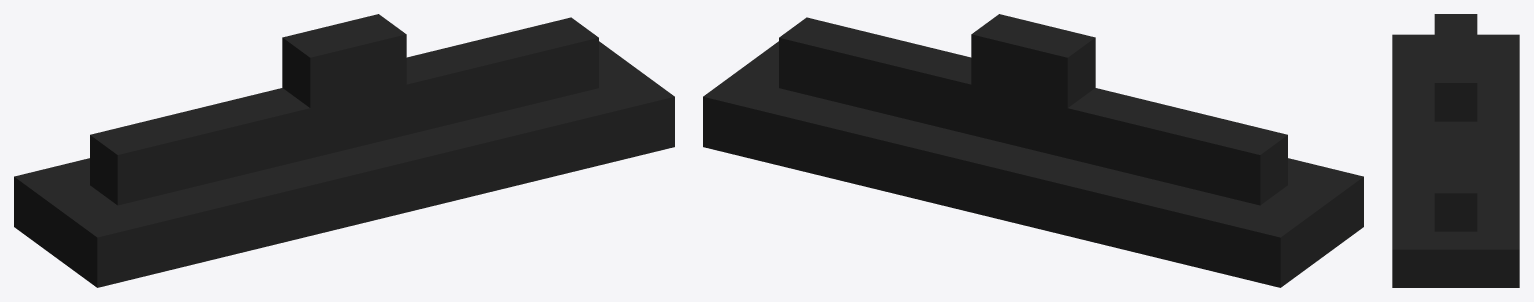
Rendered from under.obj.
3 views of the same model, side by side, from view 1: azimuth 30°, elevation 25°; view 2: azimuth 150°, elevation 25°; view 3: azimuth 270°, elevation 25° (orthographic). The views are drawn at different scales.
Bounding box in the file's own units: 1.2 × 0.3 × 0.3.
1 material, 1 textured.
